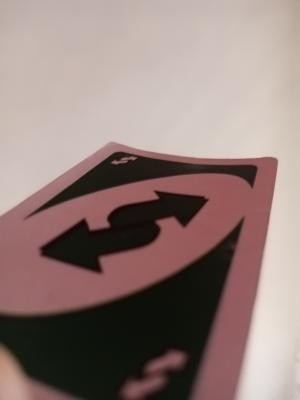green: (90, 164, 209, 387)
